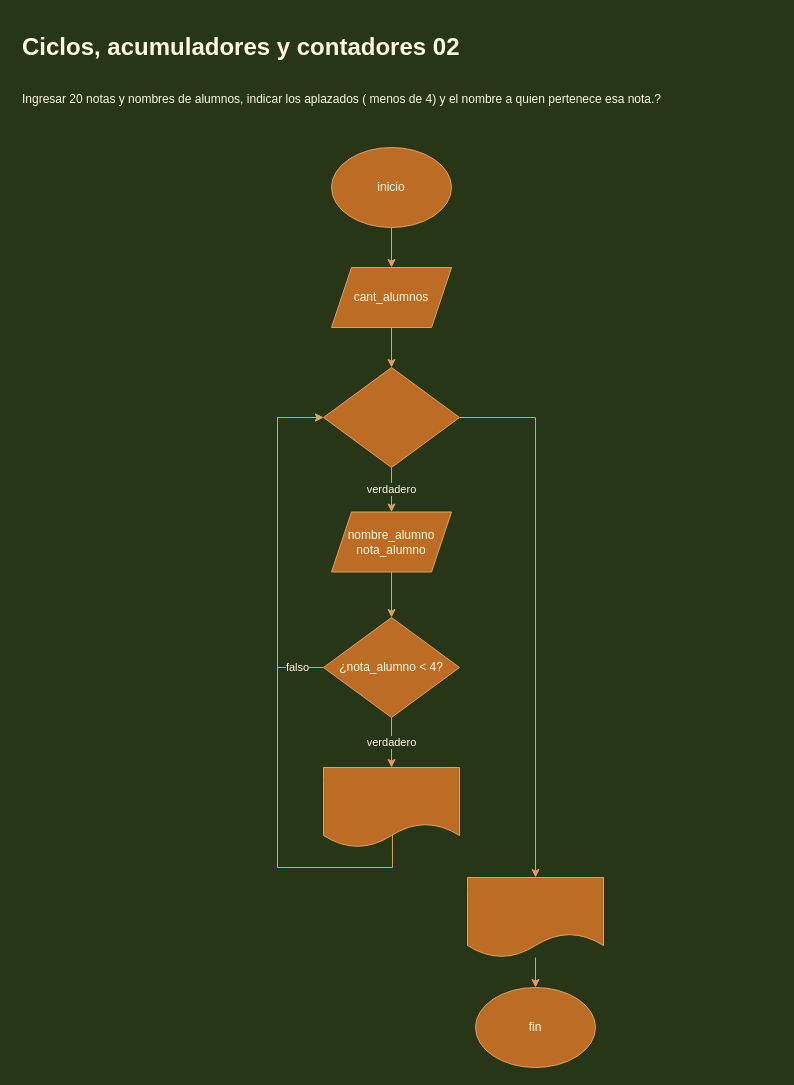
The diagram is 794 pixels wide and 1085 high, and some of its shapes have lost their labels. The shapes that lost their labels are listed below. From the top down, each one's box as (x1, y1, x2, y2) in pixels, then its label:
(322, 366, 460, 468): ¿i <= cant_alumnos?
(322, 766, 460, 848): Almuno aplazado. Nombre: (nombre_alumno) Nota: (nota_alumno)
(466, 876, 604, 958): Se alcanzó el límte seleccionado
